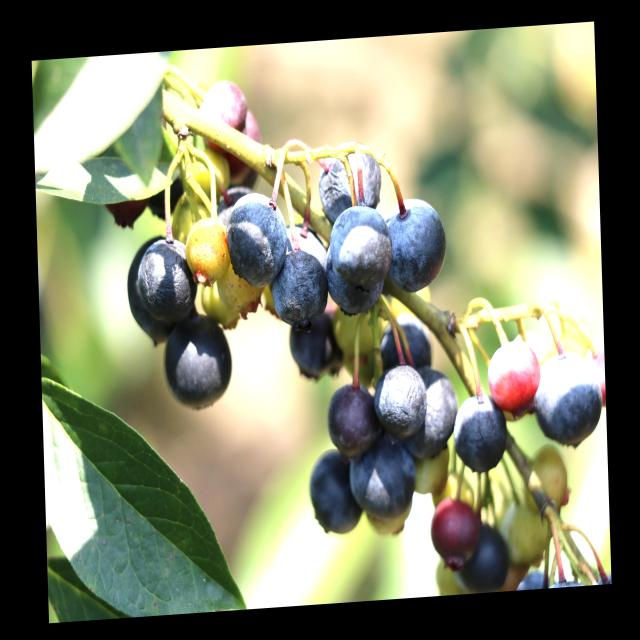blueberry: (162, 308, 232, 415), (534, 348, 602, 452), (380, 194, 447, 299), (226, 190, 288, 299), (343, 435, 414, 527), (134, 233, 202, 325), (317, 140, 383, 224), (447, 388, 507, 480), (325, 200, 388, 286), (305, 447, 363, 539), (404, 369, 458, 463), (284, 302, 341, 386), (320, 245, 382, 320), (456, 518, 514, 594), (374, 360, 428, 439), (270, 242, 322, 324), (326, 381, 378, 455), (379, 316, 436, 368)
blueberry-halfripe: (488, 338, 543, 415), (431, 496, 479, 568), (200, 83, 248, 149)
blueberry-unripe: (186, 215, 230, 279)
